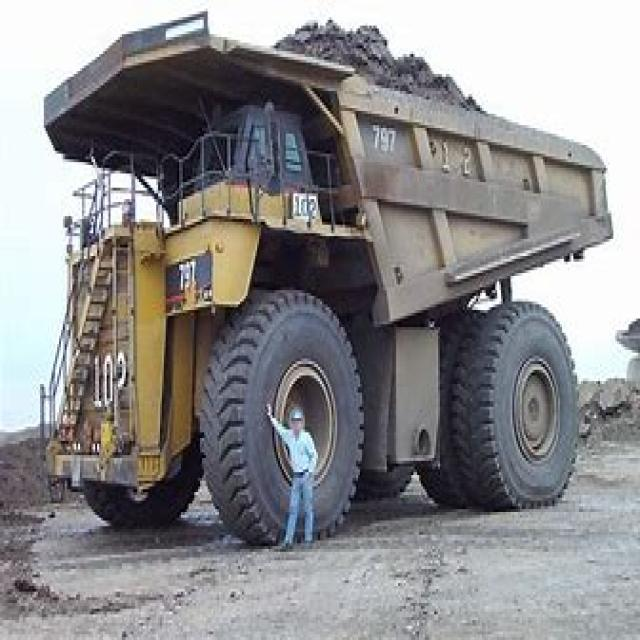dump_truck: (30, 14, 623, 544)
